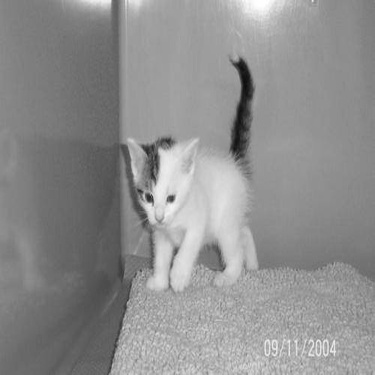cat: (106, 62, 273, 278)
